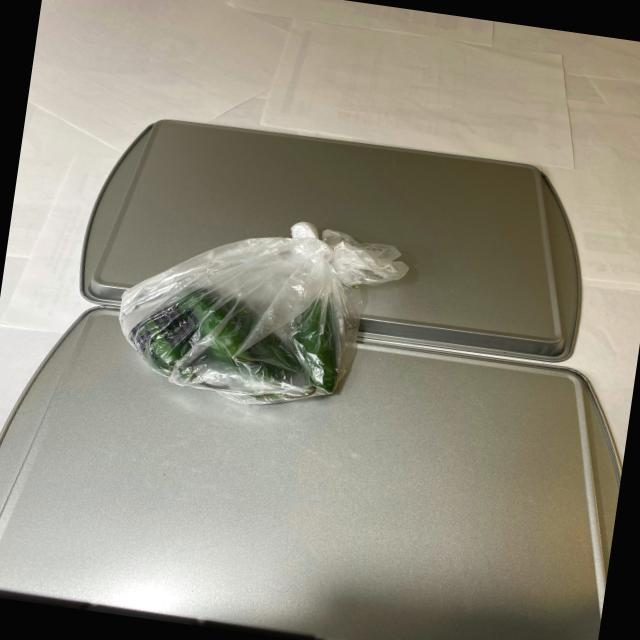chilli: (102, 202, 420, 418)
